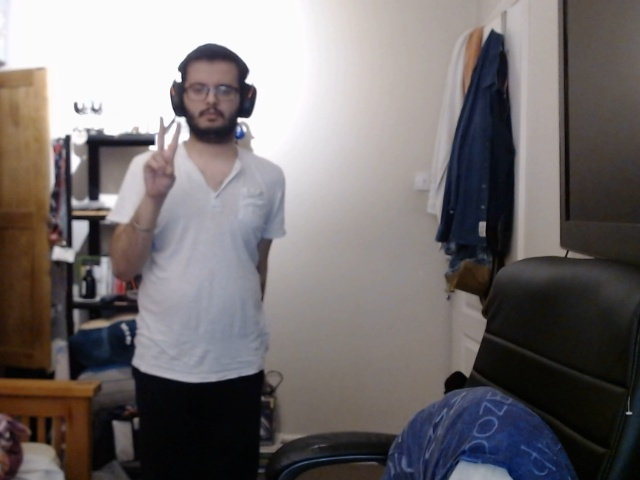Peace: (133, 112, 182, 199)
